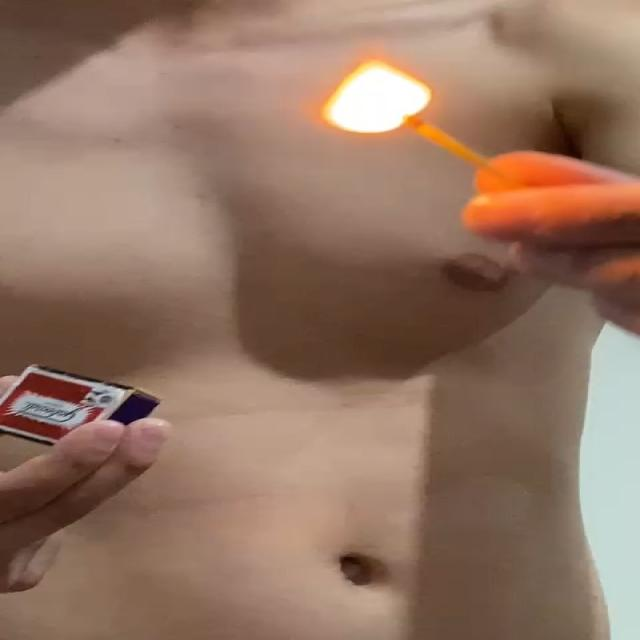fogo-ypXI: (316, 50, 436, 136)
